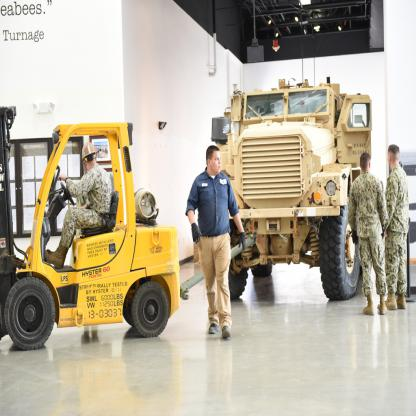Truck: (211, 76, 372, 300)
